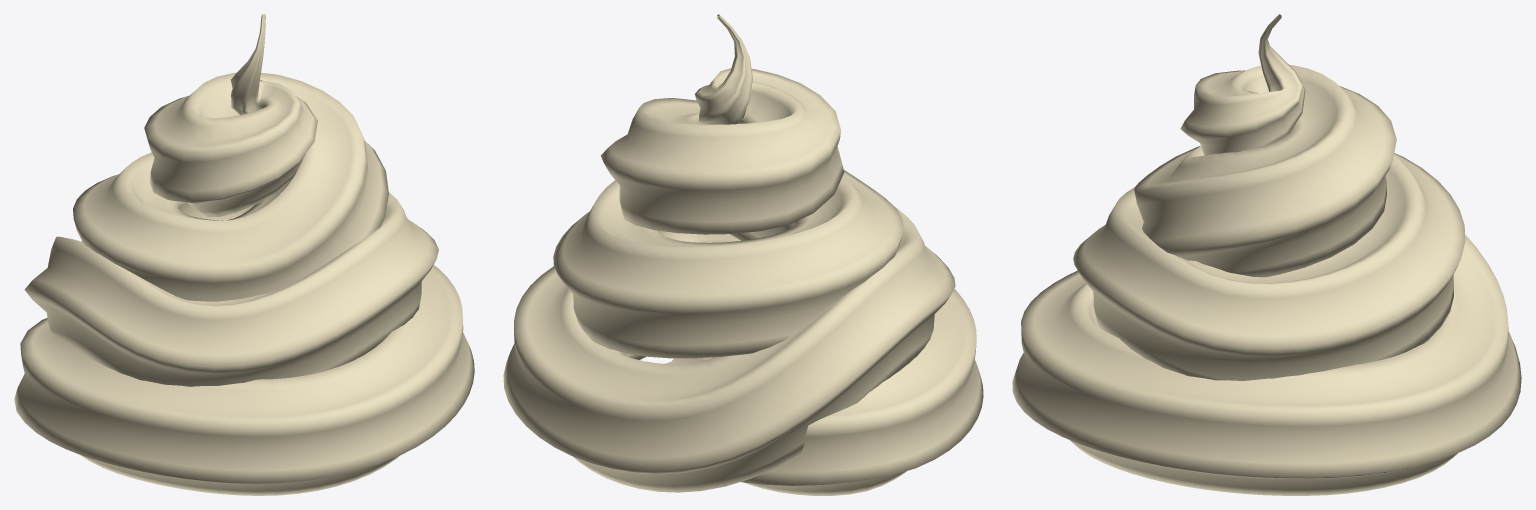
File: isbjerg 1_2.fbx
3 renders of one model, left to right at view 1: azimuth 30°, elevation 25°; view 2: azimuth 150°, elevation 25°; view 3: azimuth 270°, elevation 25°, orthographic. The views are drawn at different scales.
Parts seen in each view (by area): view 1: Circle.004; view 2: Circle.004; view 3: Circle.004.
Part boxes in pixels (x1=…): Circle.004: x1=14, y1=14, x2=474, y2=495; Circle.004: x1=503, y1=14, x2=983, y2=495; Circle.004: x1=1012, y1=14, x2=1521, y2=495.
Bounding box in the file's own units: 211 × 216 × 206.
